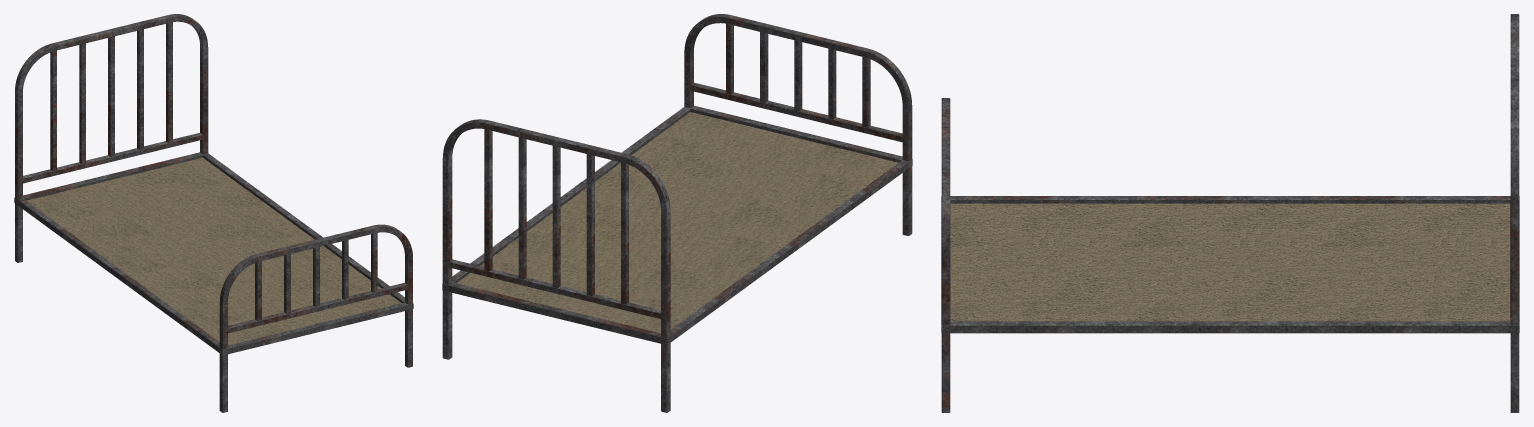
File: tdc-dtr-bed-1.glb
3 renders of one model, left to right at view 1: azimuth 30°, elevation 25°; view 2: azimuth 150°, elevation 25°; view 3: azimuth 270°, elevation 25°, orthographic. The views are drawn at different scales.
Visible parts, largest first — view 1: tdc-dtr-bed-1; view 2: tdc-dtr-bed-1; view 3: tdc-dtr-bed-1.
Part boxes in pixels (x1,y1,x2,y2): tdc-dtr-bed-1: [14, 14, 413, 412]; tdc-dtr-bed-1: [442, 14, 912, 412]; tdc-dtr-bed-1: [941, 14, 1519, 412].
Bounding box in the file's own units: 0.495 × 0.5167 × 0.935.
Materials: 2 (2 with a texture image).
